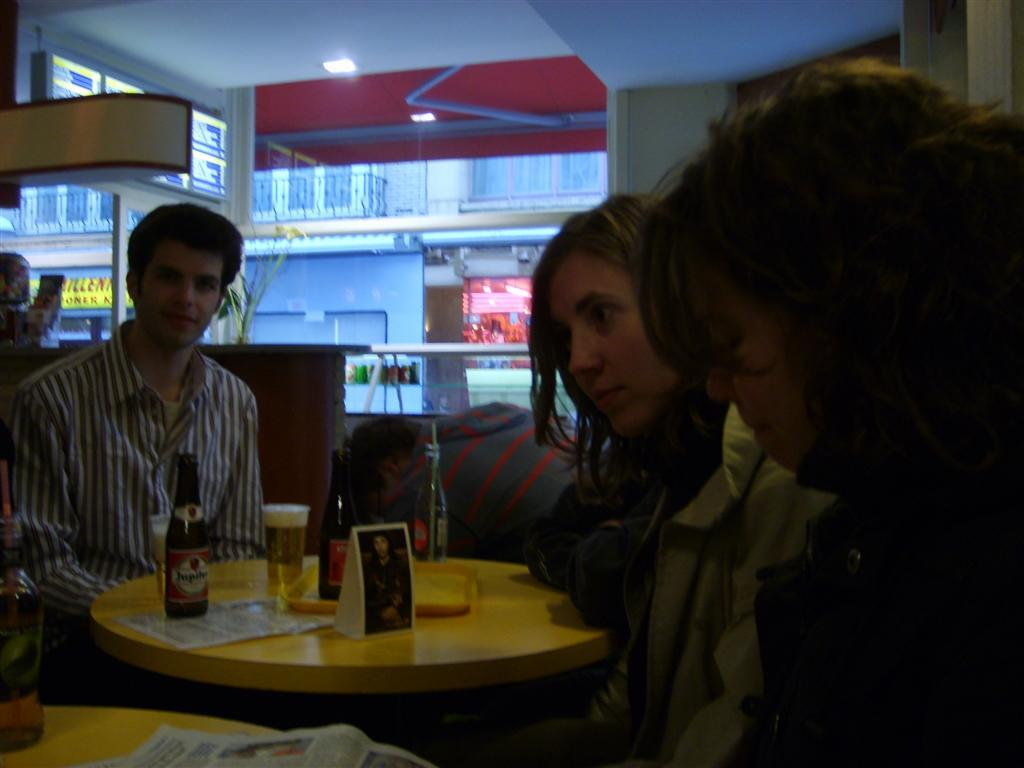Human-face: (544, 253, 675, 443), (706, 284, 815, 473), (144, 247, 225, 346)
